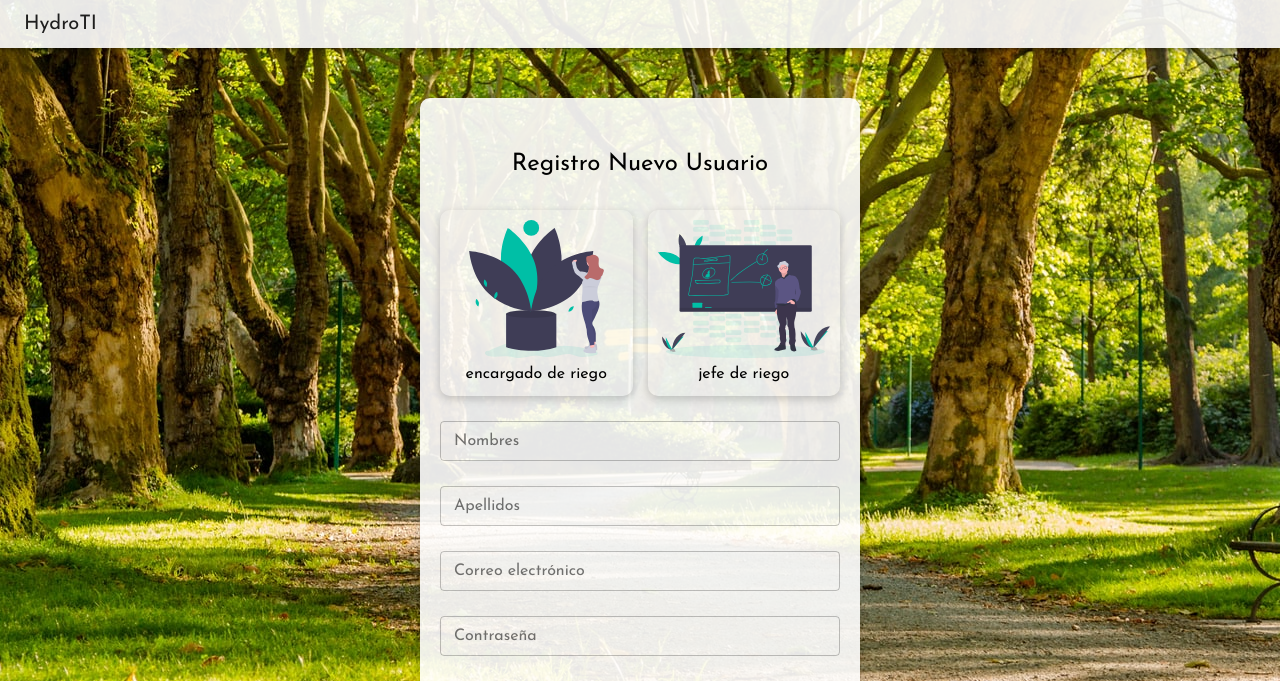
Scenario: As an user I want to register in the application to enter the plattforms › should check that the email provided has a valid format
Type "email" into the field with id "sign-up-email".
click(640, 571); type("email")  # box [440, 551, 840, 591]
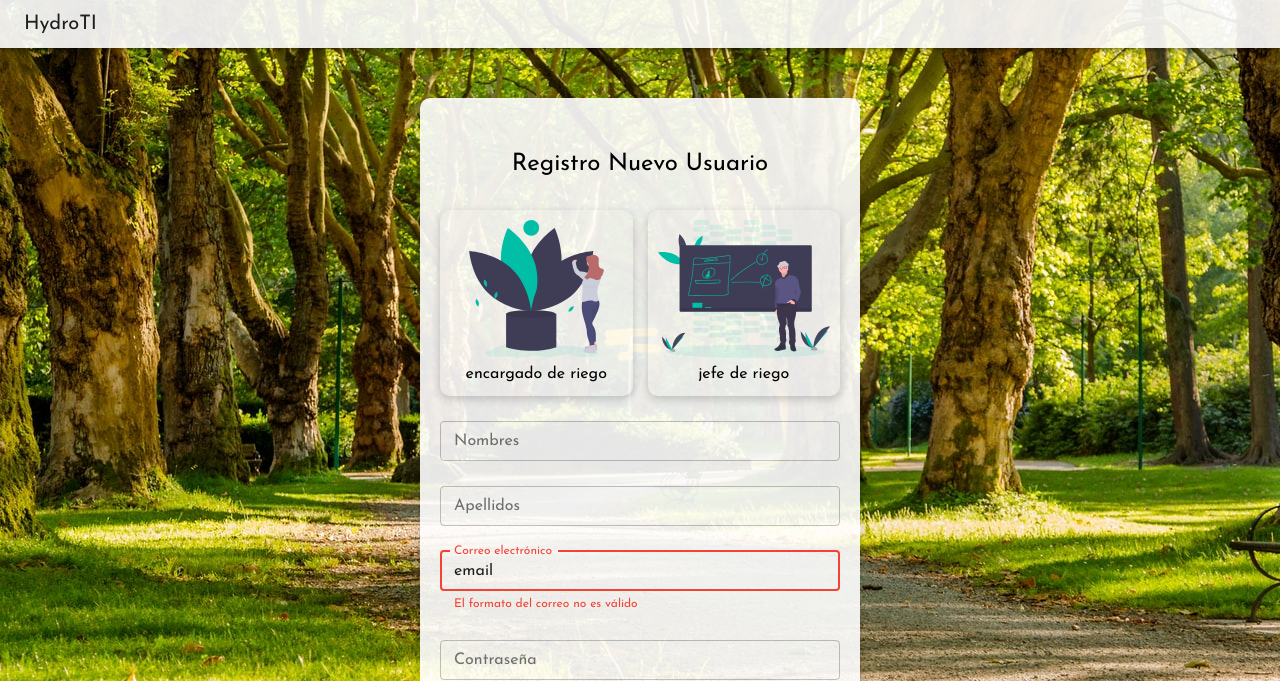
Now the text with id "sign-up-email-helper-text" reads "El formato del correo no es válido", box [454, 598, 638, 610]
